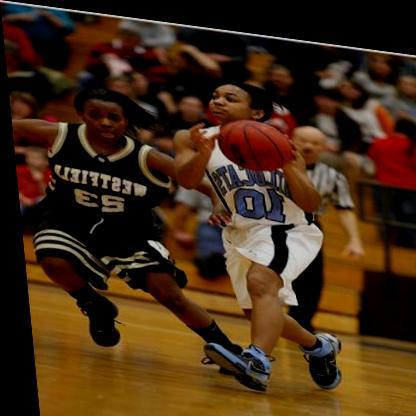basketball: (215, 109, 293, 167)
